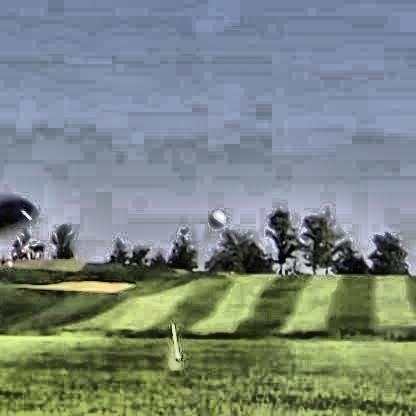golfball: (206, 207, 223, 225)
